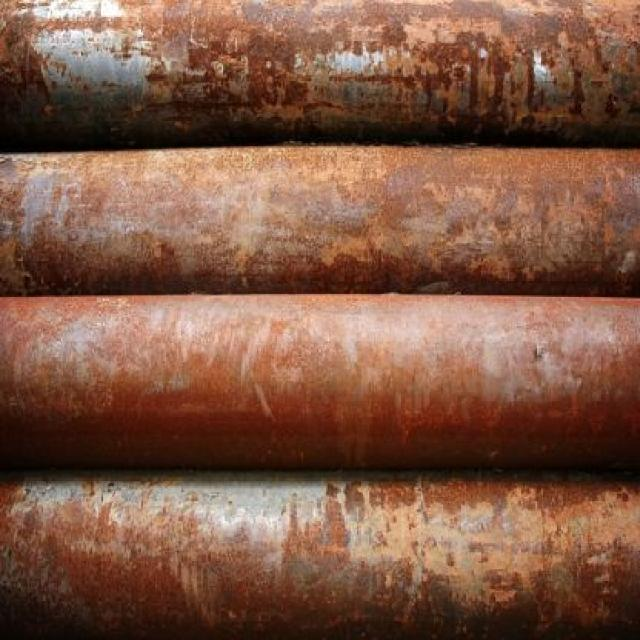corrosion: (1, 6, 637, 640)
